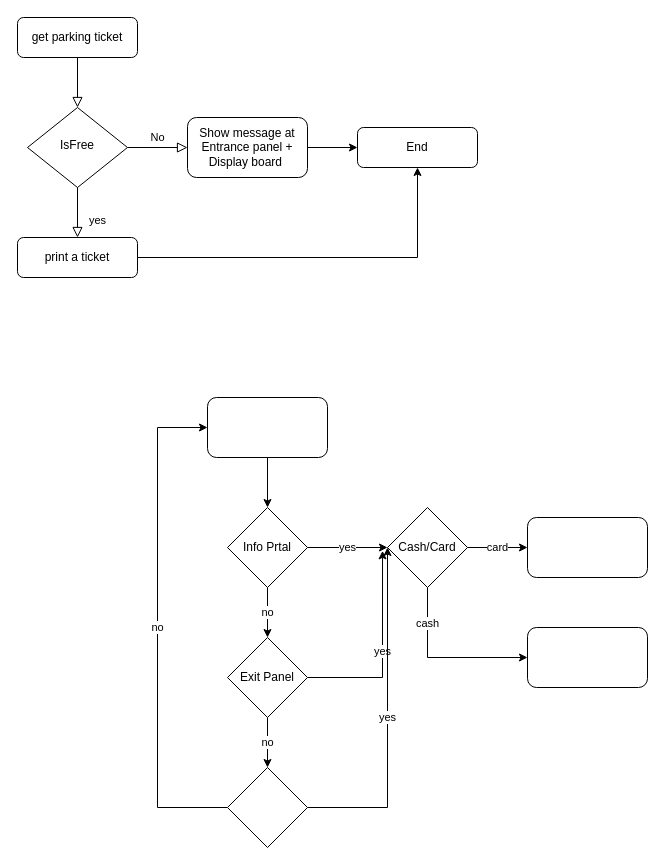
Some shapes in this 665 by 865 pixel diagram are drawn without their labels. Here are the shapes that lost their labels. From the top down, the centre of each, then its label:
At (x=267, y=427): "Pay Ticket".
At (x=587, y=547): "Pay Card".
At (x=587, y=657): "Pay Cash".
At (x=267, y=807): "Parking attendant".
